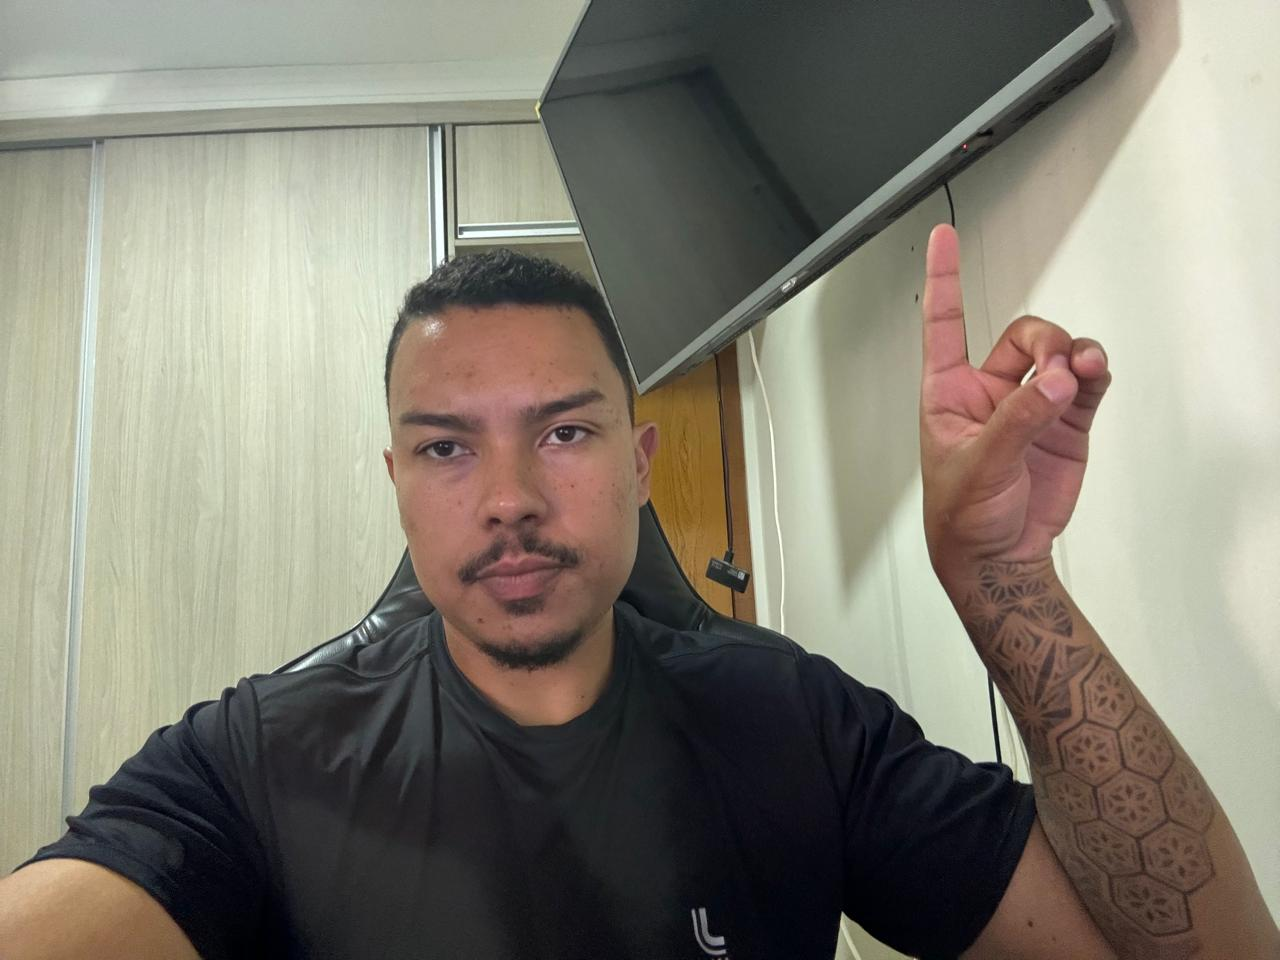d: (913, 214, 1113, 591)
